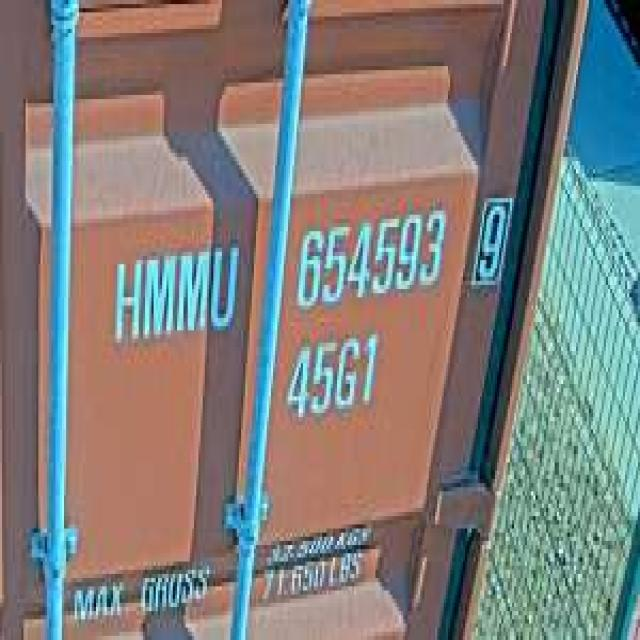dv: (469, 182, 512, 298)
owner: (107, 231, 241, 351)
serial: (288, 198, 450, 310)
size: (279, 322, 382, 429)
